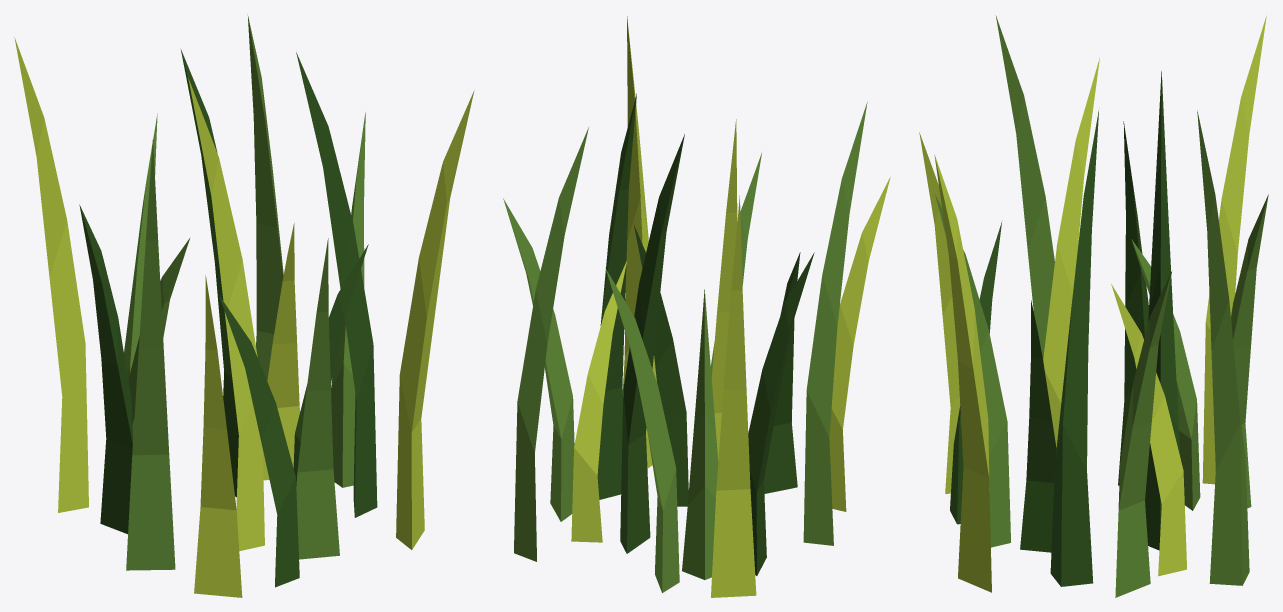
File: pikem muru lilledeta.fbx
The picture shows the model from 3 angles, left to right: view 1: azimuth 30°, elevation 25°; view 2: azimuth 150°, elevation 25°; view 3: azimuth 270°, elevation 25°; orthographic projection. The views are drawn at different scales.
Parts seen in each view (by area): view 1: mur4.002; view 2: mur4.002; view 3: mur4.002.
Boxes of the visible parts, bbox=[...] form: mur4.002: bbox=[14, 14, 474, 597]; mur4.002: bbox=[503, 16, 890, 597]; mur4.002: bbox=[919, 15, 1268, 597].
Bounding box in the file's own units: 108 × 152 × 107.
